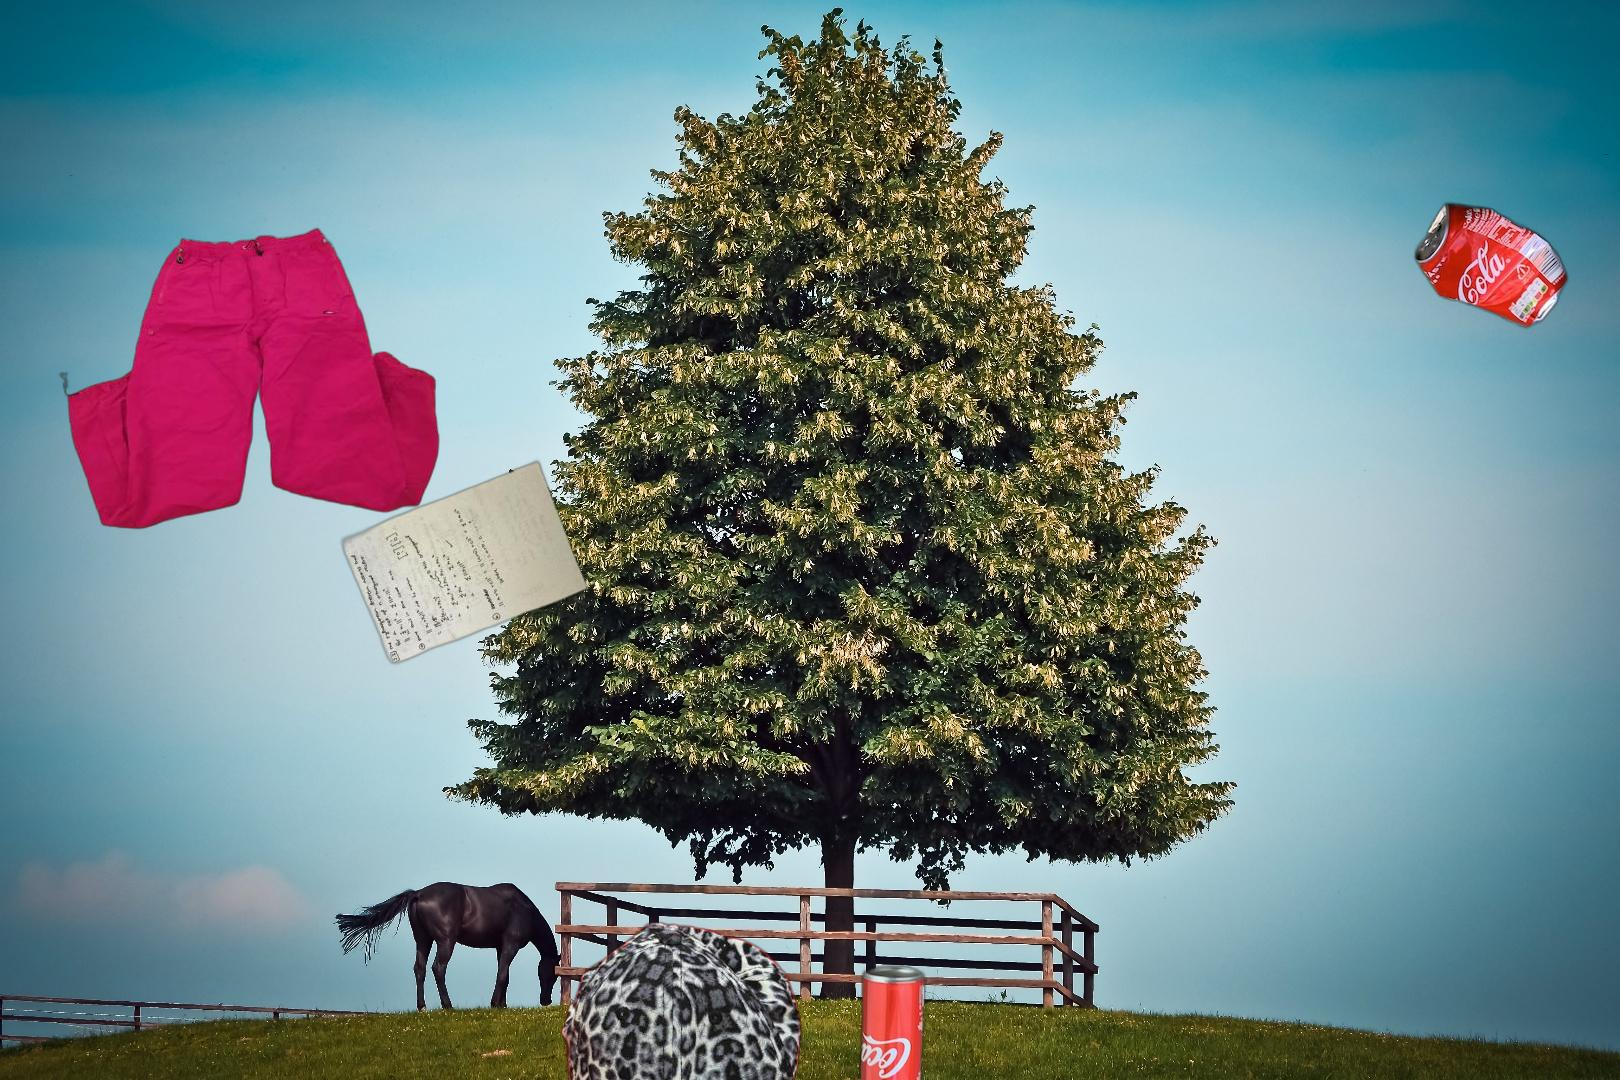clothes: (58, 224, 442, 532), (558, 918, 805, 1080)
metal-cans: (1410, 196, 1572, 333), (855, 959, 929, 1080)
paper: (337, 457, 592, 668)
